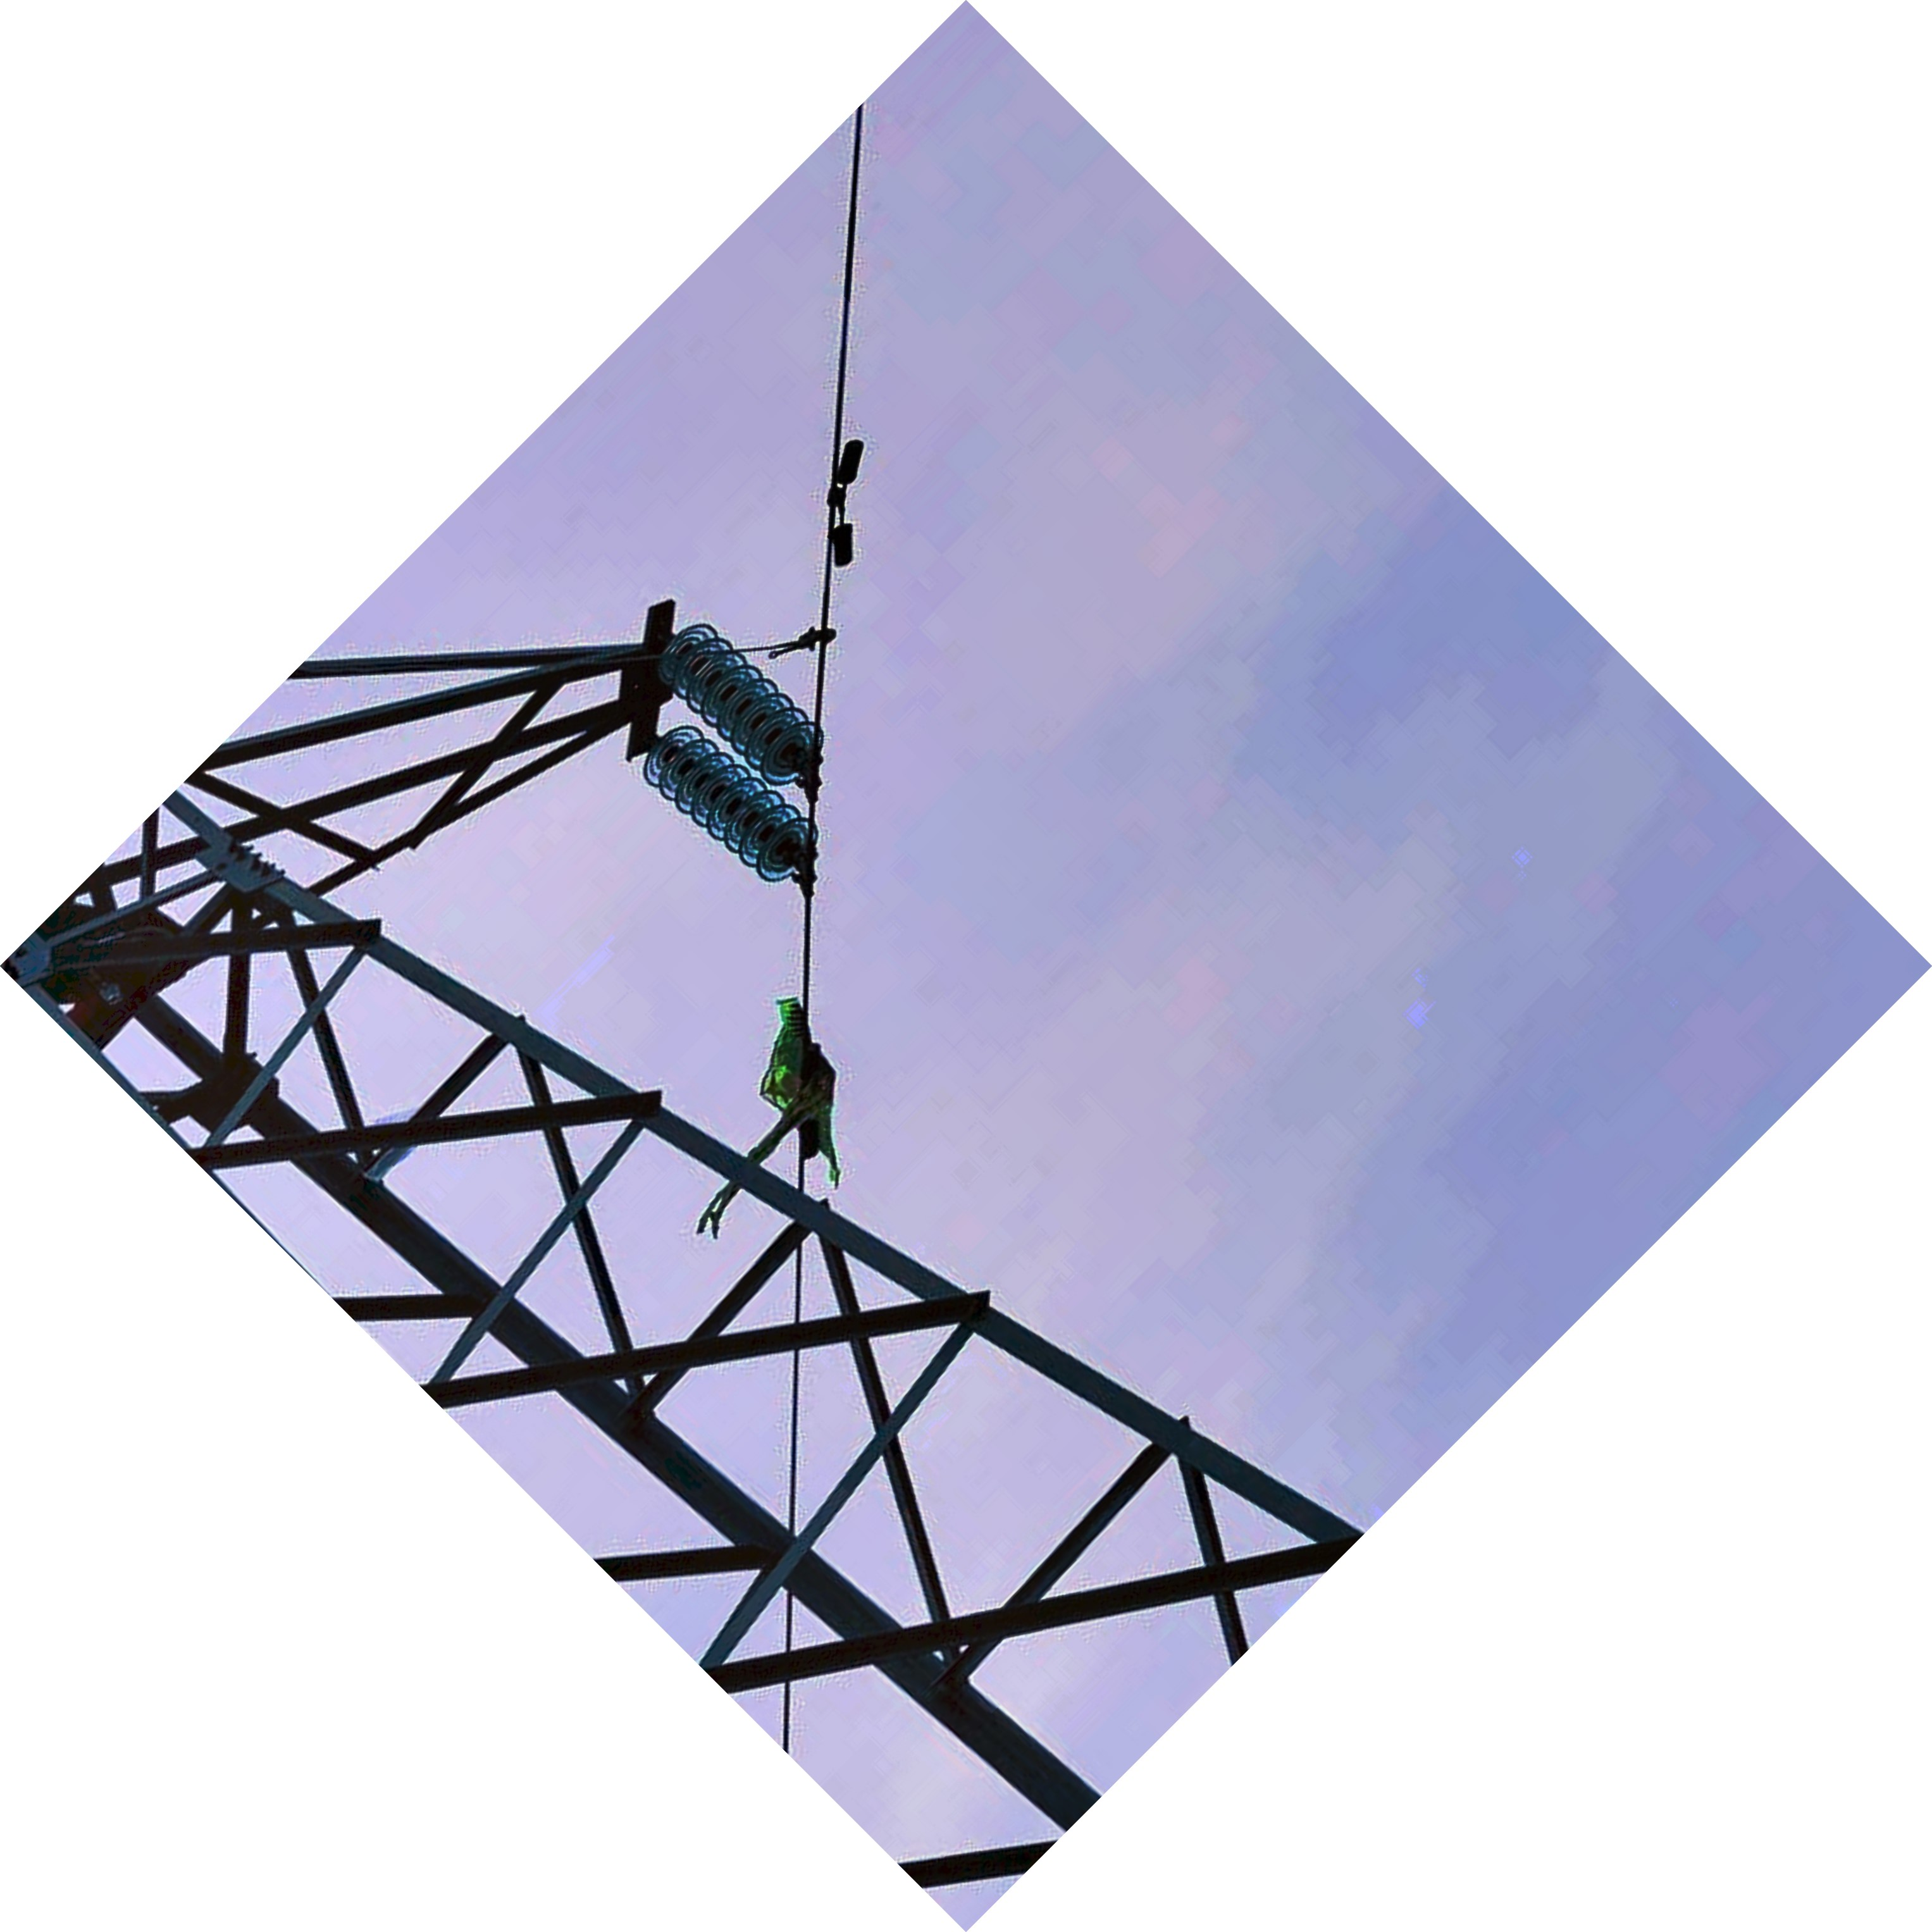wire foreign body: (717, 1000, 885, 1210)
